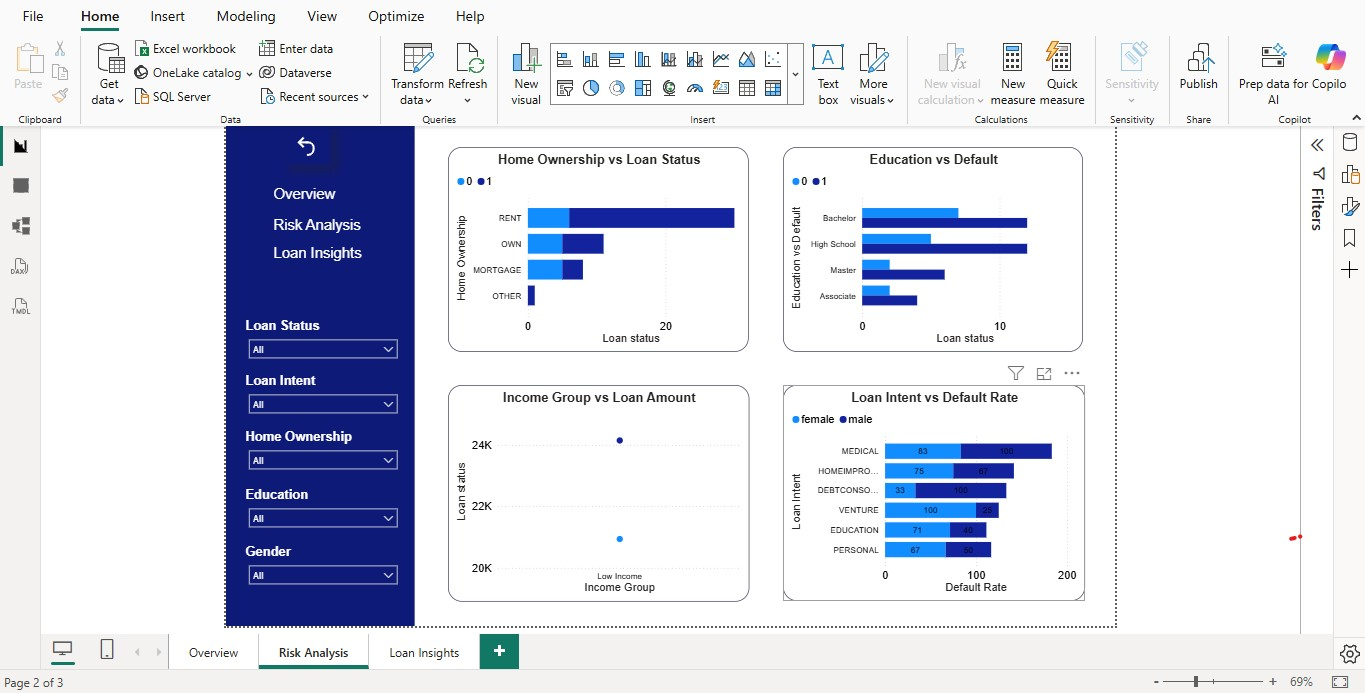

This screenshot's page, from the dashboard's own definition file:
{"tool":"powerbi","page":{"name":"Risk Analysis","canvas":[1280,720],"ordinal":1},"visuals":[{"type":"shape","box":[0,0,271.7,721.7],"z":0},{"type":"slicer","title":"Loan Status","fields":{"Values":["loan_data_set.loan_status"]},"box":[23.4,276.8,233.7,66.5],"z":1000},{"type":"slicer","title":"Loan Intent","fields":{"Values":["loan_data_set.loan_intent"]},"box":[23.4,355.9,233.7,66.5],"z":2000},{"type":"slicer","title":"Home Ownership","fields":{"Values":["loan_data_set.person_home_ownership"]},"box":[23.4,436.8,233.7,66.5],"z":3000},{"type":"slicer","title":"Education","fields":{"Values":["loan_data_set.person_education"]},"box":[23.4,519.5,233.7,66.5],"z":4000},{"type":"slicer","title":"Gender","fields":{"Values":["loan_data_set.person_gender"]},"box":[23.4,602.2,233.7,66.5],"z":5000},{"type":"textbox","box":[63.3,80,193.3,43.3],"z":6000},{"type":"textbox","box":[63.3,125,193.3,40],"z":7000},{"type":"textbox","box":[63.3,165,193.3,40],"z":8000},{"type":"actionButton","box":[63.3,80,151.7,36.7],"z":9000},{"type":"actionButton","box":[63.3,123.3,178.3,35],"z":10000},{"type":"actionButton","box":[63.3,158.3,178.3,40],"z":11000},{"type":"barChart","title":"Home Ownership vs Loan Status","fields":{"Category":["loan_data_set.person_home_ownership"],"Series":["loan_data_set.loan_status"],"Y":["CountNonNull(loan_data_set.loan_status)"]},"box":[319.9,30.9,433.4,295.2],"z":12000},{"type":"clusteredBarChart","title":"Education vs Default","fields":{"Category":["loan_data_set.person_education"],"Series":["loan_data_set.loan_status"],"Y":["CountNonNull(loan_data_set.loan_status)"]},"box":[801.5,29.8,432,295.2],"z":13000},{"type":"lineChart","title":"Income Group vs Loan Amount","fields":{"Category":["loan_data_set.Income Group"],"Y":["Avg(loan_data_set.loan_amnt)"],"Series":["loan_data_set.loan_status"]},"box":[320.1,373,433.7,312.3],"z":14000},{"type":"barChart","title":"Loan Intent  vs Default Rate","fields":{"Category":["loan_data_set.loan_intent"],"Y":["Last Refresh.Default Rt"],"Series":["loan_data_set.person_gender"]},"box":[801.5,373,434.9,311],"z":15000},{"type":"actionButton","box":[88.3,2.1,63.7,55.5],"z":16000}]}

Visuals, with their boxes on the page's 1280x720 design canvas (x1, y1, x2, y2). These are canvas units, not pixel positions in the 1365x693 screenshot, which may show the page scaled, cropped or inside an application window:
shape: {"x1": 0, "y1": 0, "x2": 272, "y2": 722}
"Loan Status" slicer: {"x1": 23, "y1": 277, "x2": 257, "y2": 343}
"Loan Intent" slicer: {"x1": 23, "y1": 356, "x2": 257, "y2": 422}
"Home Ownership" slicer: {"x1": 23, "y1": 437, "x2": 257, "y2": 503}
"Education" slicer: {"x1": 23, "y1": 520, "x2": 257, "y2": 586}
"Gender" slicer: {"x1": 23, "y1": 602, "x2": 257, "y2": 669}
textbox: {"x1": 63, "y1": 80, "x2": 257, "y2": 123}
textbox: {"x1": 63, "y1": 125, "x2": 257, "y2": 165}
textbox: {"x1": 63, "y1": 165, "x2": 257, "y2": 205}
actionButton: {"x1": 63, "y1": 80, "x2": 215, "y2": 117}
actionButton: {"x1": 63, "y1": 123, "x2": 242, "y2": 158}
actionButton: {"x1": 63, "y1": 158, "x2": 242, "y2": 198}
"Home Ownership vs Loan Status" barChart: {"x1": 320, "y1": 31, "x2": 753, "y2": 326}
"Education vs Default" clusteredBarChart: {"x1": 802, "y1": 30, "x2": 1234, "y2": 325}
"Income Group vs Loan Amount" lineChart: {"x1": 320, "y1": 373, "x2": 754, "y2": 685}
"Loan Intent  vs Default Rate" barChart: {"x1": 802, "y1": 373, "x2": 1236, "y2": 684}
actionButton: {"x1": 88, "y1": 2, "x2": 152, "y2": 58}
